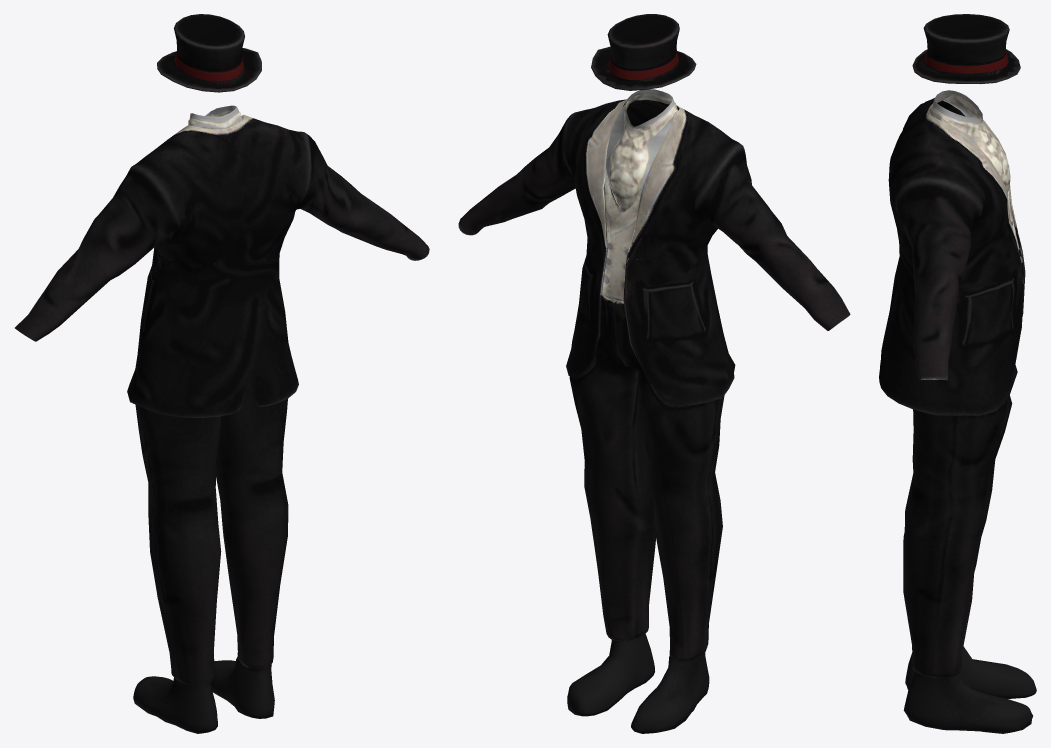
File: 4TH CLOTH.fbx
3 renders of one model, left to right at view 1: azimuth 30°, elevation 25°; view 2: azimuth 150°, elevation 25°; view 3: azimuth 270°, elevation 25°, orthographic.
Visible parts, largest first — view 1: 4TH STAGE CLOTH; view 2: 4TH STAGE CLOTH; view 3: 4TH STAGE CLOTH.
Boxes of the visible parts, x1=… form: 4TH STAGE CLOTH: x1=15, y1=14, x2=429, y2=733; 4TH STAGE CLOTH: x1=458, y1=14, x2=850, y2=733; 4TH STAGE CLOTH: x1=879, y1=14, x2=1036, y2=733.
Bounding box in the file's own units: 87.81 × 143 × 30.
1 material, 1 textured.
